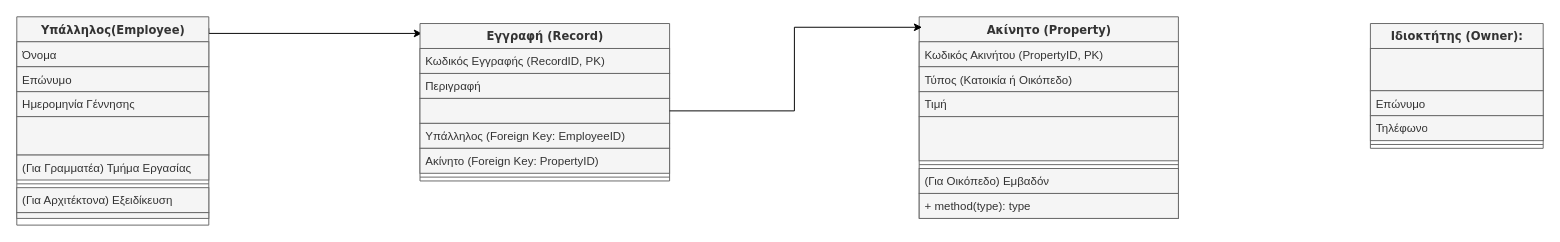
Some shapes in this 1560 by 242 pixel diagram are drawn without their labels. The centre of each missing label's shape, as x and y in pixels:
(Για Κατοικία) Τύπος Κατοικίας (Διαμέρισμα, Μονοκατοικία κ.λπ.): the point at 1048,138
Ημερομηνία Καταχώρησης: the point at 544,110
Κατηγορία(Γραμματέας ή Αρχιτέκτονας): the point at 112,135
Κωδικός Ιδιοκτήτη (OwnerID, PK): the point at 1456,69
